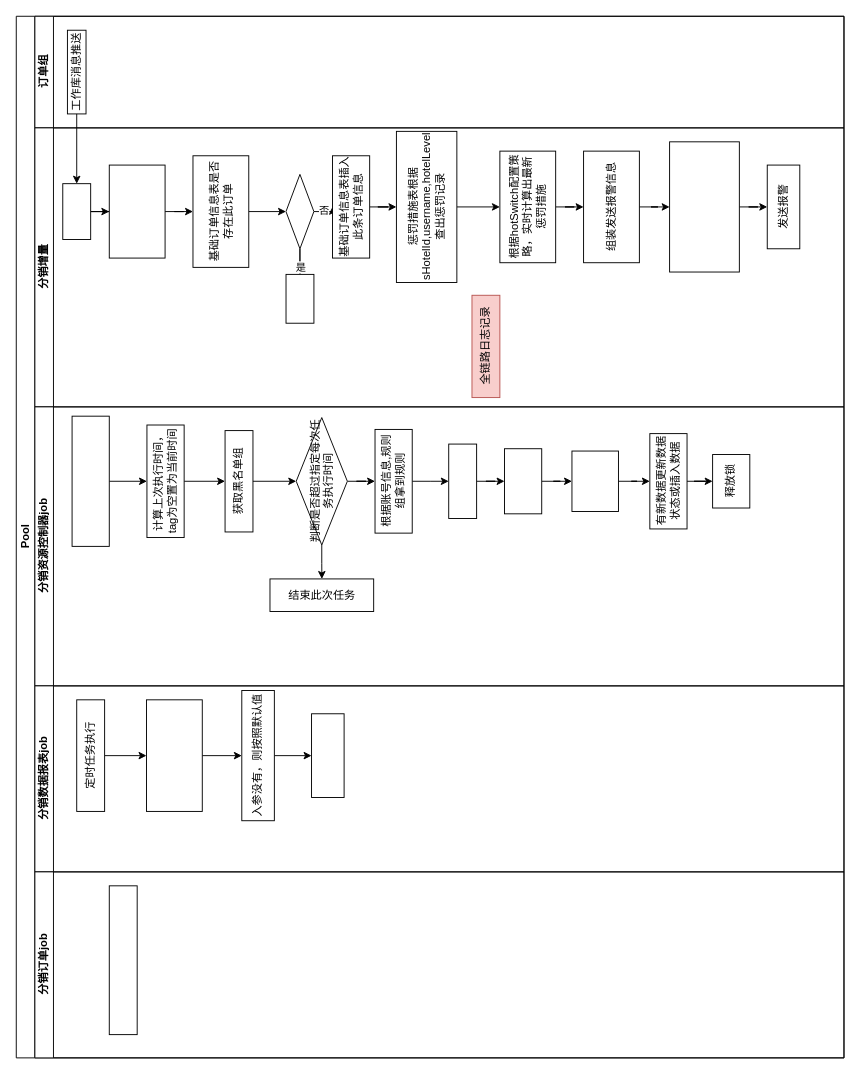
Image size: 860x1074. Some labels were removed from this diagram. The shapes that lost their labels are listed below. From the top down, each one's centre as x and y in pixels, then its label:
At pixel 76 211: "接收消息".
At pixel 136 211: "回查订单组soa，补充订单信息".
At pixel 704 206: "新增或者更新惩罚规则信息，如果是更新，加版本号锁，避免并发推送信息的问题".
At pixel 299 298: "记录错误日志".
At pixel 90 480: "redis获取上次执行时间".
At pixel 462 480: "redis加锁".
At pixel 523 481: "建规则".
At pixel 594 481: "生效规则".
At pixel 174 755: "根据入参查询符合条件的数据".
At pixel 327 755: "输出数据报表".
At pixel 122 960: "定时任务清理订单数据".
